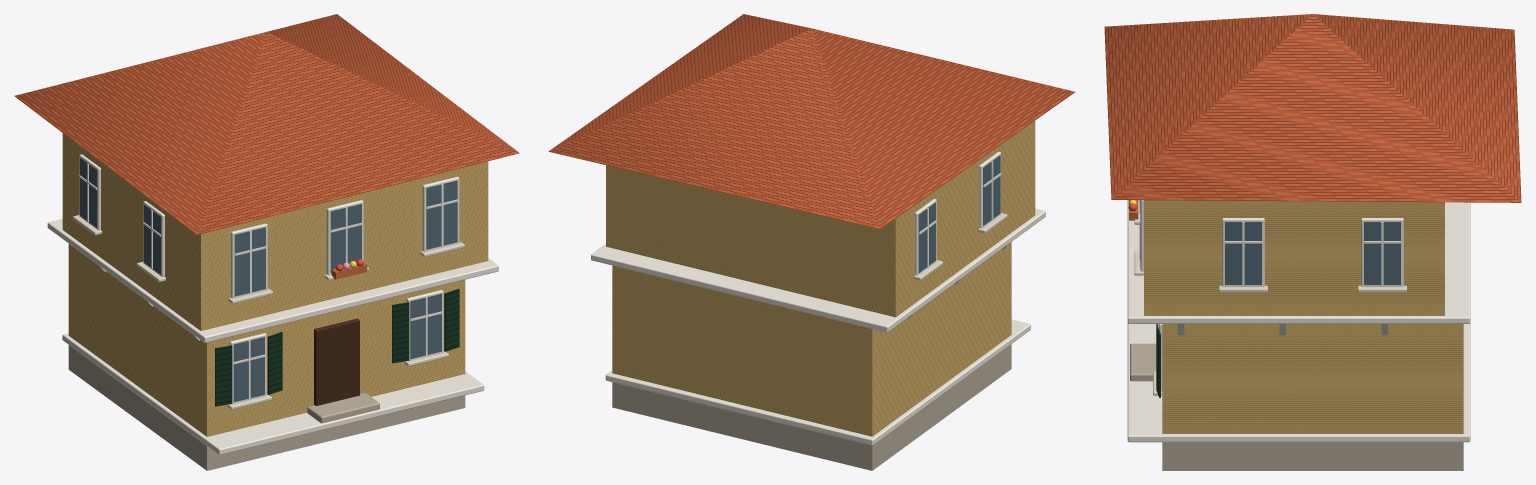
The model's file is ahsap-ev.glb.
3 views of the same model, side by side, from view 1: azimuth 30°, elevation 25°; view 2: azimuth 150°, elevation 25°; view 3: azimuth 270°, elevation 25° (orthographic). The views are drawn at different scales.
Visible parts, largest first — view 1: ahsap-ev; view 2: ahsap-ev; view 3: ahsap-ev.
Boxes of the visible parts, bbox=[...] form: ahsap-ev: bbox=[14, 14, 519, 470]; ahsap-ev: bbox=[548, 14, 1075, 470]; ahsap-ev: bbox=[1104, 14, 1521, 470].
Size of the model in its own units: 9 by 9.25 by 9.
13 materials, 5 textured.
